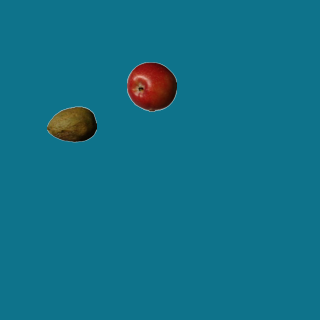Apple Braeburn: (126, 61, 176, 111)
Papaya: (46, 99, 96, 149)
